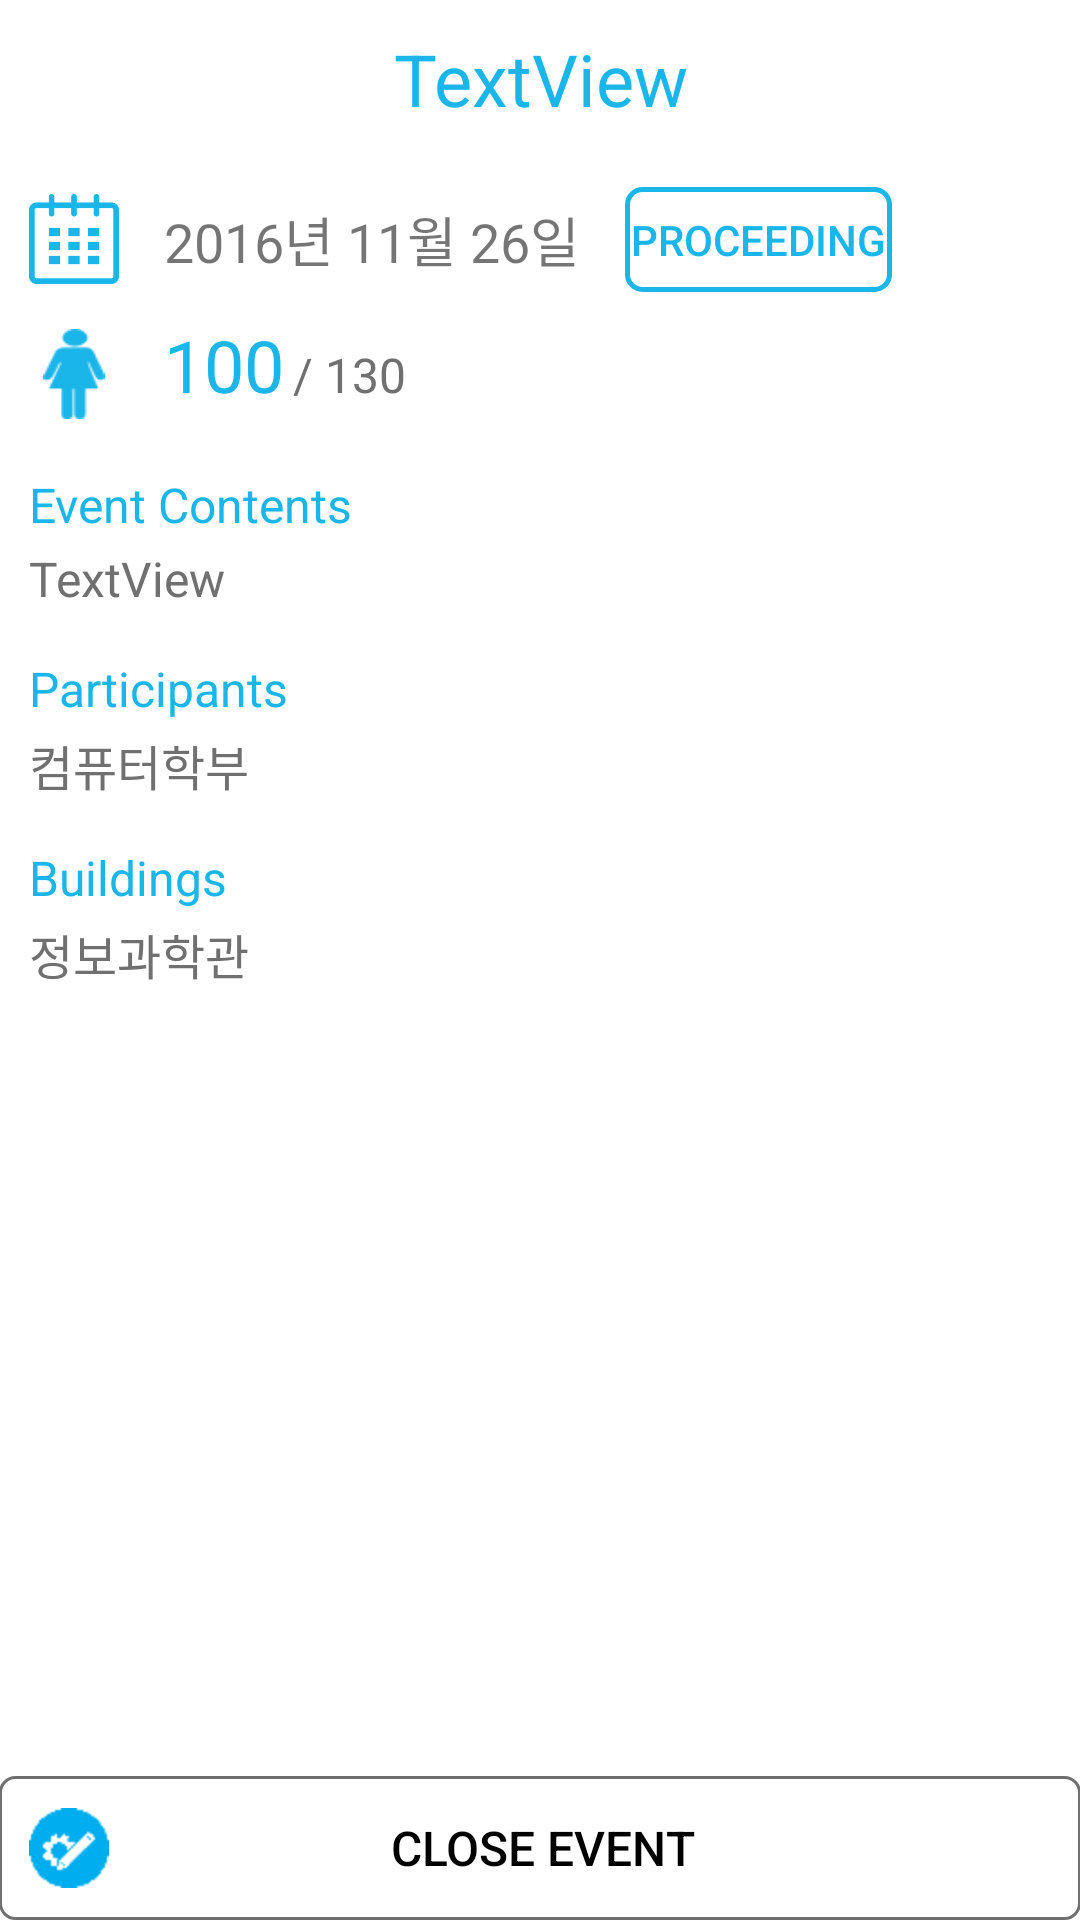

Where to tap for icons on this 1080px×1920px app screen, as point (x, y):
calendar: point (74, 239)
saram: point (74, 374)
